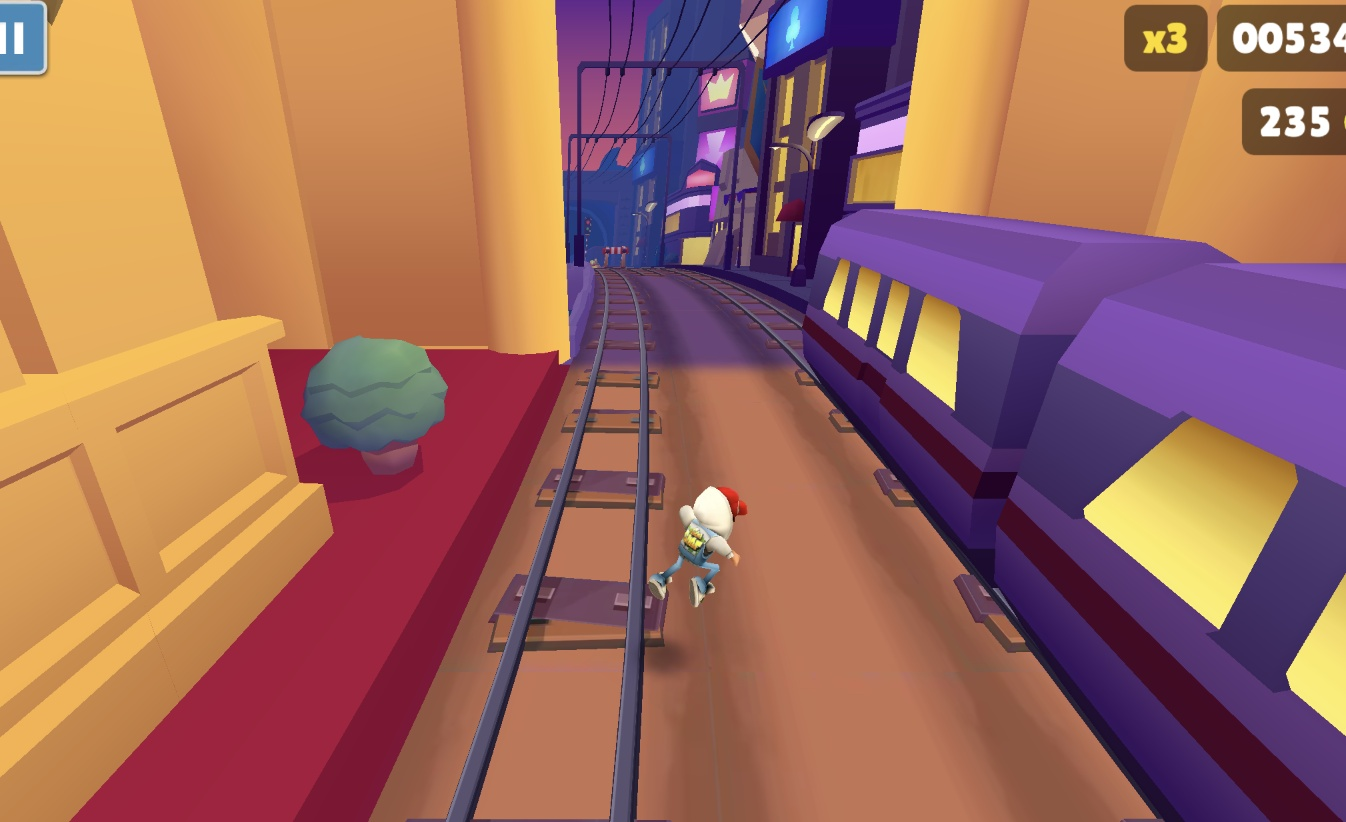ground_barrier: (600, 246, 628, 276)
train: (820, 208, 1346, 778)
